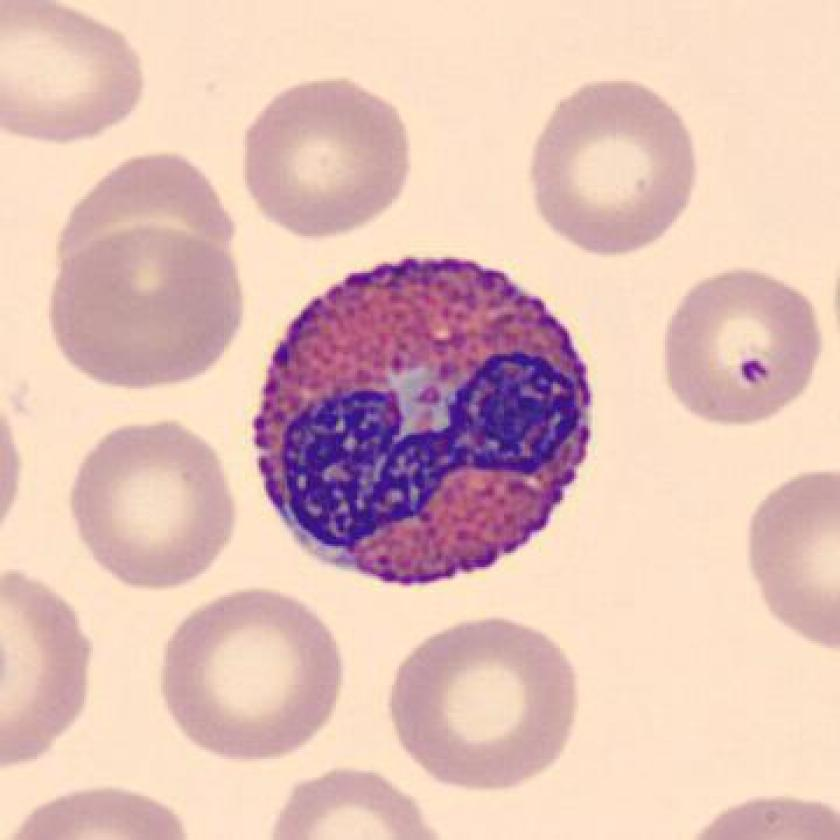eosinophil: (242, 246, 613, 598)
